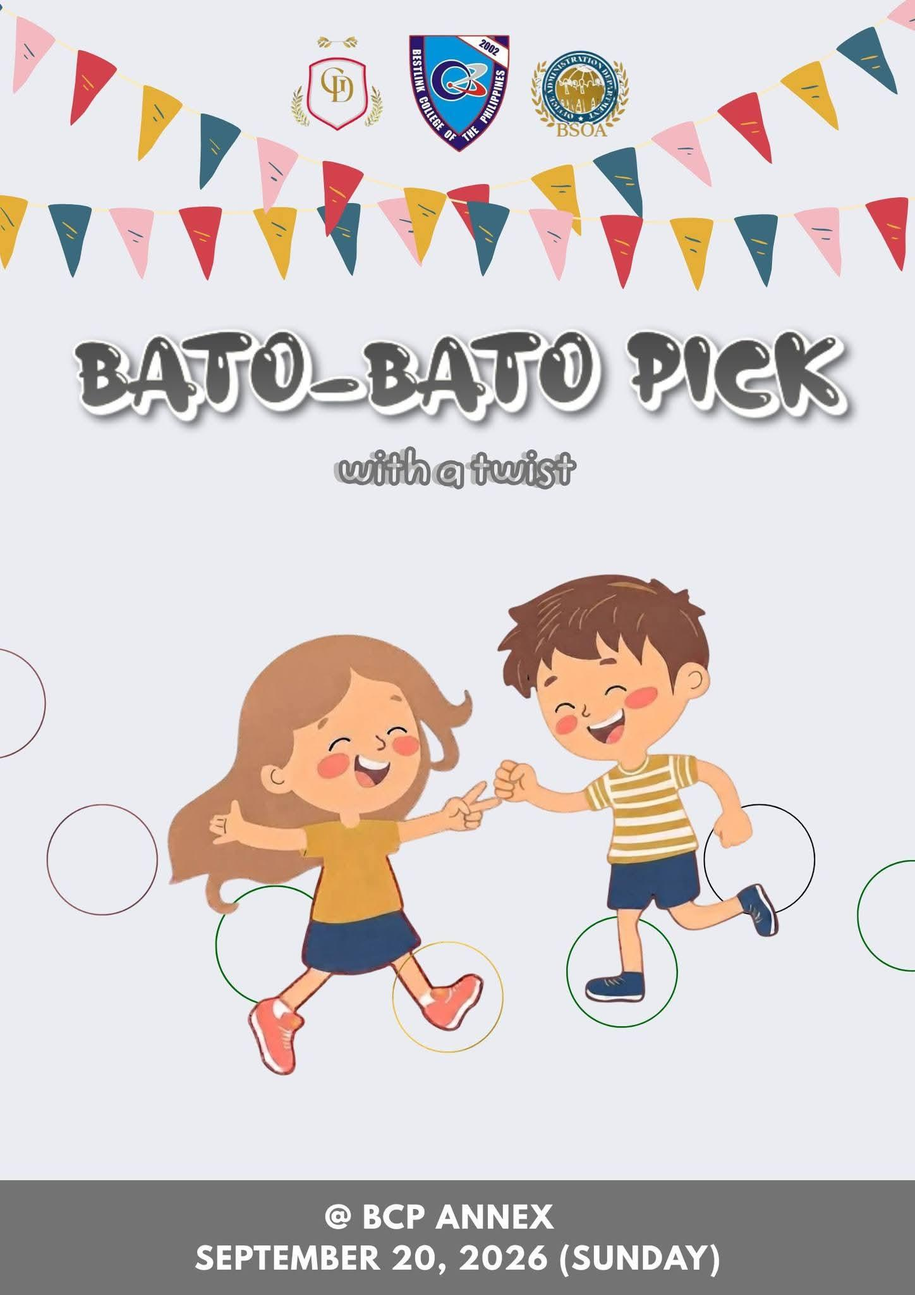embellishment: (238, 634, 463, 1068), (525, 571, 733, 997)
logo: (402, 27, 516, 161), (522, 40, 638, 142), (284, 29, 388, 138)
text: (62, 317, 863, 434), (186, 1234, 725, 1280), (324, 441, 583, 497), (315, 1194, 569, 1238)
underlay: (0, 1174, 904, 1295)
